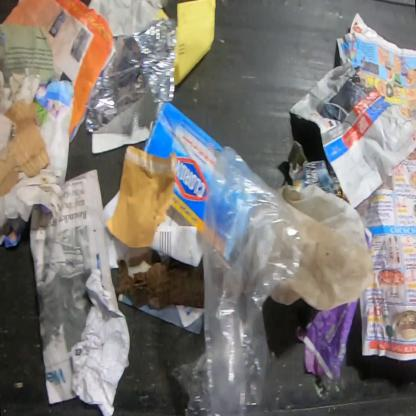cardboard: (0, 96, 51, 198)
soft_plastic: (169, 145, 303, 415), (269, 183, 374, 311), (85, 20, 176, 133)
